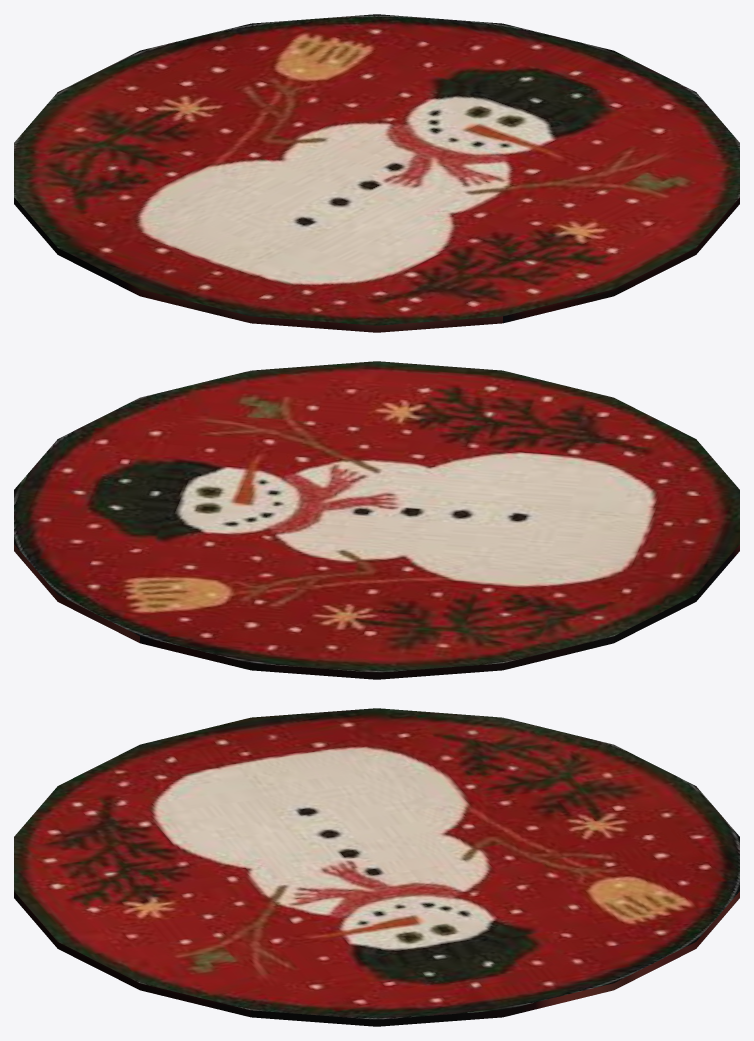
The model's file is roundrug2_naughty_1.FBX.
3 views of the same model, one above another, from view 1: azimuth 30°, elevation 25°; view 2: azimuth 150°, elevation 25°; view 3: azimuth 270°, elevation 25° (orthographic).
Parts seen in each view (by area): view 1: roundrug2_naughty_1; view 2: roundrug2_naughty_1; view 3: roundrug2_naughty_1.
Boxes of the visible parts, x1,y1,x2,y2 form: roundrug2_naughty_1: (14,14,739,332); roundrug2_naughty_1: (14,361,739,679); roundrug2_naughty_1: (14,708,739,1026).
Bounding box in the file's own units: 149 × 147 × 1.58.
